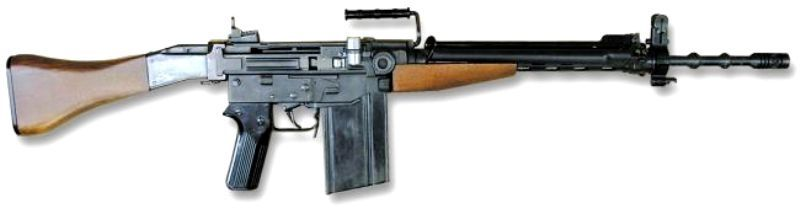Arma Real: (2, 8, 797, 201)
